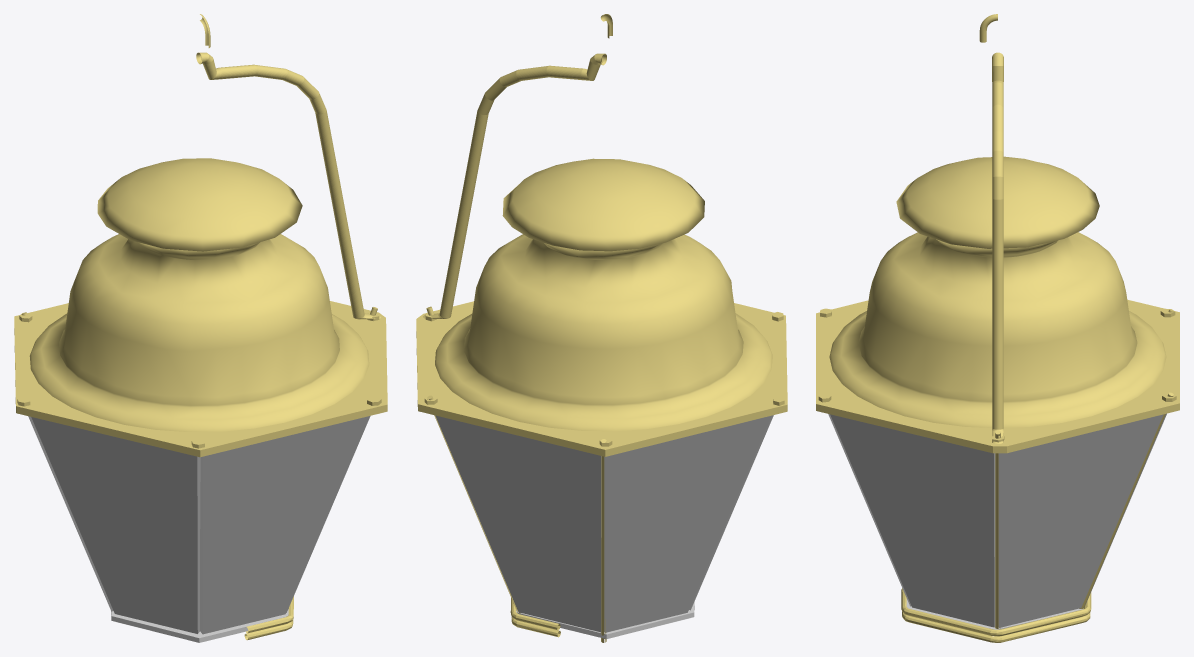
The model's file is reverbere_2024.glb.
3 views of the same model, side by side, from view 1: azimuth 30°, elevation 25°; view 2: azimuth 150°, elevation 25°; view 3: azimuth 270°, elevation 25° (orthographic).
Parts seen in each view (by area): view 1: chapeau, vitre.003, vitre.002, dessus, attache, vitre_dessous, vitre.001; view 2: chapeau, vitre.001, vitre.000, dessus, attache, vitre_dessous, montant2, vitre.002; view 3: chapeau, vitre.004, vitre.005, dessus, attache, base1, base2, montants, montant1.
Boxes of the visible parts, box(x1,y1,x2,y2) form: chapeau: box(29, 158, 369, 431); vitre.003: box(200, 416, 369, 634); vitre.002: box(31, 417, 200, 633); dessus: box(14, 301, 387, 457); attache: box(196, 52, 380, 319); vitre_dessous: box(111, 609, 288, 642); vitre.001: box(28, 416, 113, 611); chapeau: box(435, 158, 772, 431); vitre.001: box(604, 416, 770, 632); vitre.000: box(435, 415, 601, 632); dessus: box(416, 301, 787, 456); attache: box(423, 53, 606, 318); vitre_dessous: box(516, 602, 694, 639); montant2: box(601, 439, 606, 642); vitre.002: box(689, 415, 773, 610); chapeau: box(829, 156, 1166, 427); vitre.004: box(830, 414, 995, 627); vitre.005: box(998, 414, 1163, 627); dessus: box(816, 299, 1179, 453); attache: box(992, 52, 1003, 443); base1: box(901, 588, 1091, 636); base2: box(902, 607, 1090, 642); montants: box(995, 430, 1000, 628); montant1: box(1079, 392, 1173, 608).
Bounding box in the file's own units: 0.5795 × 0.8909 × 0.5013.
